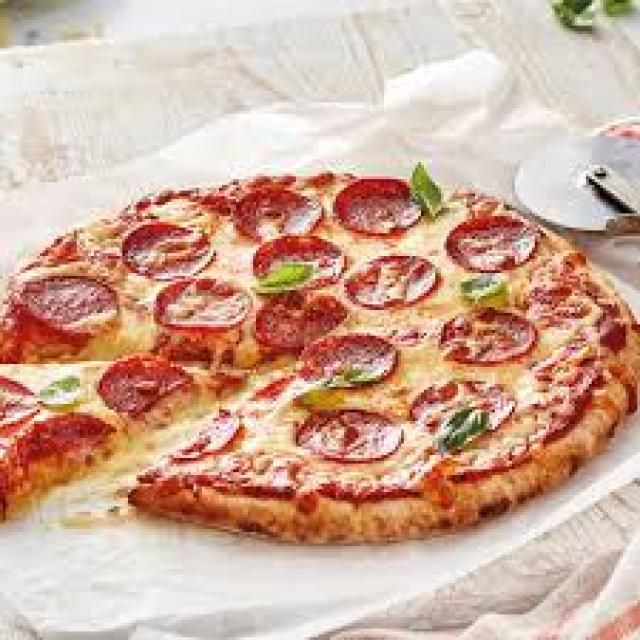피자: (0, 162, 640, 555)
